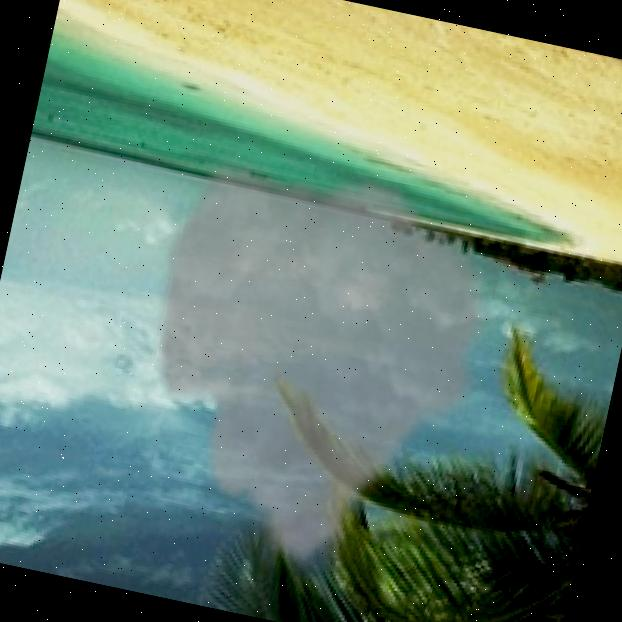smoke: (100, 134, 522, 603)
